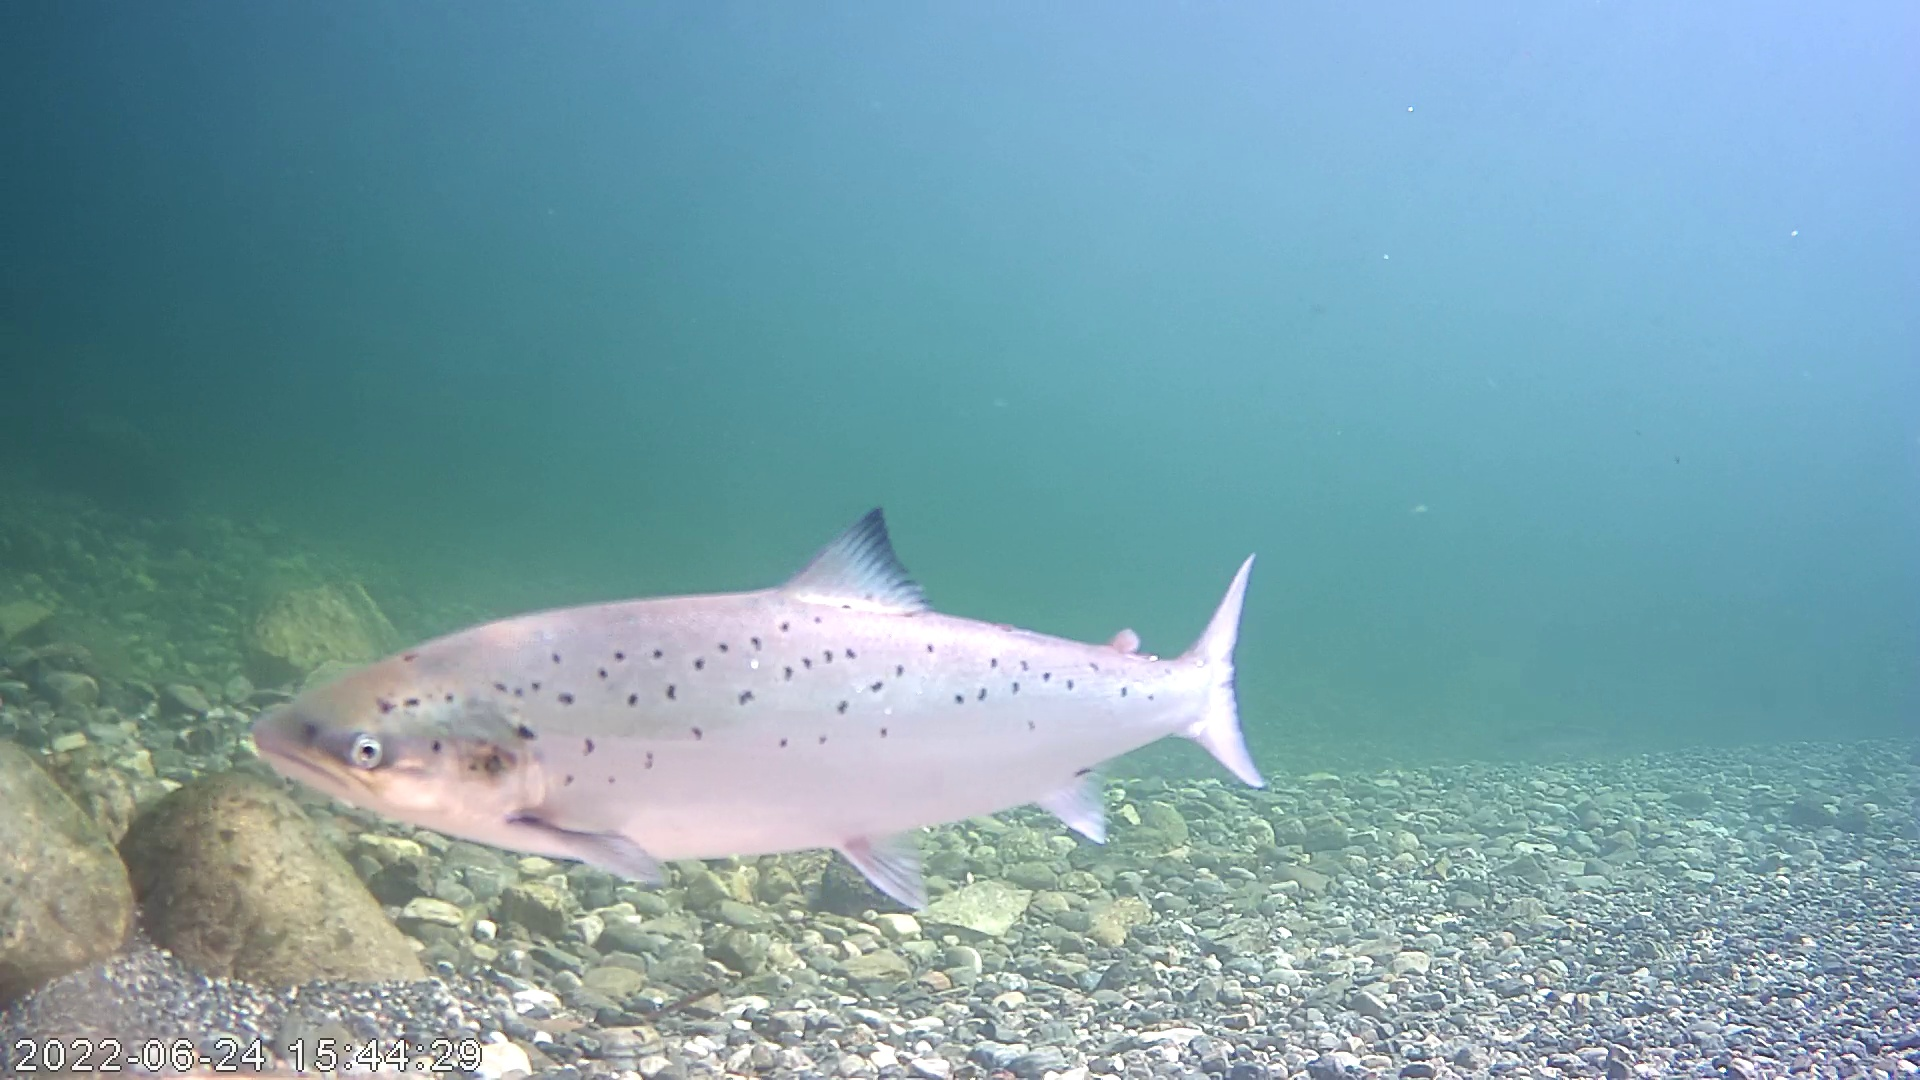salmon: (248, 506, 1269, 913)
